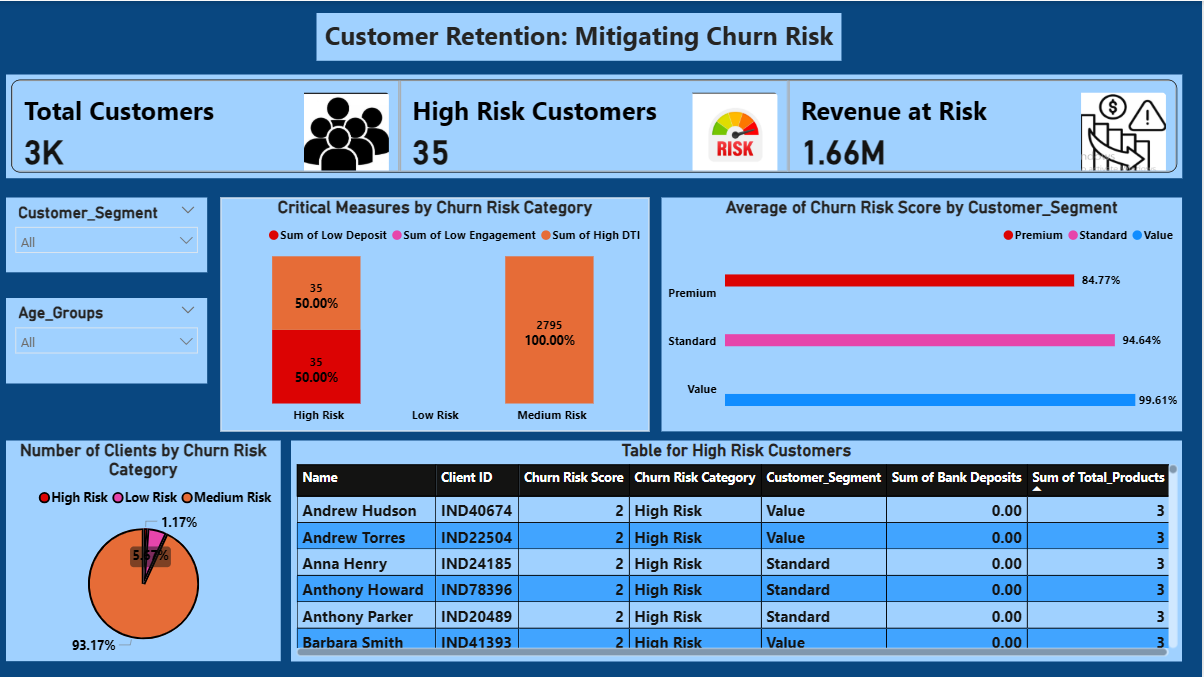

The dashboard page shown, as its layout file describes it:
{"tool":"powerbi","page":{"name":"Customer Retention & Churn Analysis","canvas":[1280,720],"ordinal":3},"visuals":[{"type":"textbox","box":[342,12.7,556.7,50.9],"z":0},{"type":"cardVisual","fields":{"Data":["Banking1.Total Customers","Banking1.Count of High Risk Customers","Banking1.Estimated Revenue at Risk"]},"box":[12.7,77.9,1247,109.8],"z":1000},{"type":"pieChart","title":"Number of Clients by Churn Risk Category","fields":{"Category":["Banking1.Churn Risk Category"],"Y":["CountNonNull(Banking1.Client ID)"]},"box":[12.7,466,291.1,233.8],"z":2000},{"type":"hundredPercentStackedColumnChart","title":"Critical Measures  by Churn Risk Category","fields":{"Category":["Banking1.Churn Risk Category"],"Y":["Sum(Banking1.Low Deposit)","Sum(Banking1.Low Engagement)","Sum(Banking1.High DTI)"]},"box":[240.2,208.4,454.9,248.1],"z":3000},{"type":"clusteredBarChart","title":"Average of Churn Risk Score by Customer_Segment ","fields":{"Category":["Banking1.Customer_Segment"],"Y":["Avg(Banking1.Churn Risk Score)"],"Series":["Banking1.Customer_Segment"]},"box":[707.8,208.4,551.9,248.1],"z":4000},{"type":"tableEx","title":"Table for High Risk Customers","fields":{"Values":["Banking1.Name","Banking1.Client ID","Banking1.Churn Risk Score","Banking1.Churn Risk Category","Banking1.Customer_Segment","Sum(Banking1.Bank Deposits)","Sum(Banking1.Total_Products)"]},"box":[314.9,466,944.8,233.8],"z":5000},{"type":"slicer","fields":{"Values":["Banking1.Customer_Segment"]},"box":[12.7,208.4,213.1,79.5],"z":6000},{"type":"slicer","fields":{"Values":["Banking1.Age_Groups"]},"box":[12.7,314.9,213.1,90.7],"z":7000}]}

Visuals, with their boxes in screenshot pixels (x1, y1, x2, y2), scaled from the page's 1280x720 canvas onto the 1204x677 screenshot:
textbox: box(322, 12, 845, 60)
cardVisual - Banking1.Total Customers x Banking1.Count of High Risk Customers: box(12, 73, 1185, 176)
"Number of Clients by Churn Risk Category" pieChart: box(12, 438, 286, 658)
"Critical Measures  by Churn Risk Category" hundredPercentStackedColumnChart: box(226, 196, 654, 429)
"Average of Churn Risk Score by Customer_Segment " clusteredBarChart: box(666, 196, 1185, 429)
"Table for High Risk Customers" tableEx: box(296, 438, 1185, 658)
slicer - Banking1.Customer_Segment: box(12, 196, 212, 271)
slicer - Banking1.Age_Groups: box(12, 296, 212, 381)
